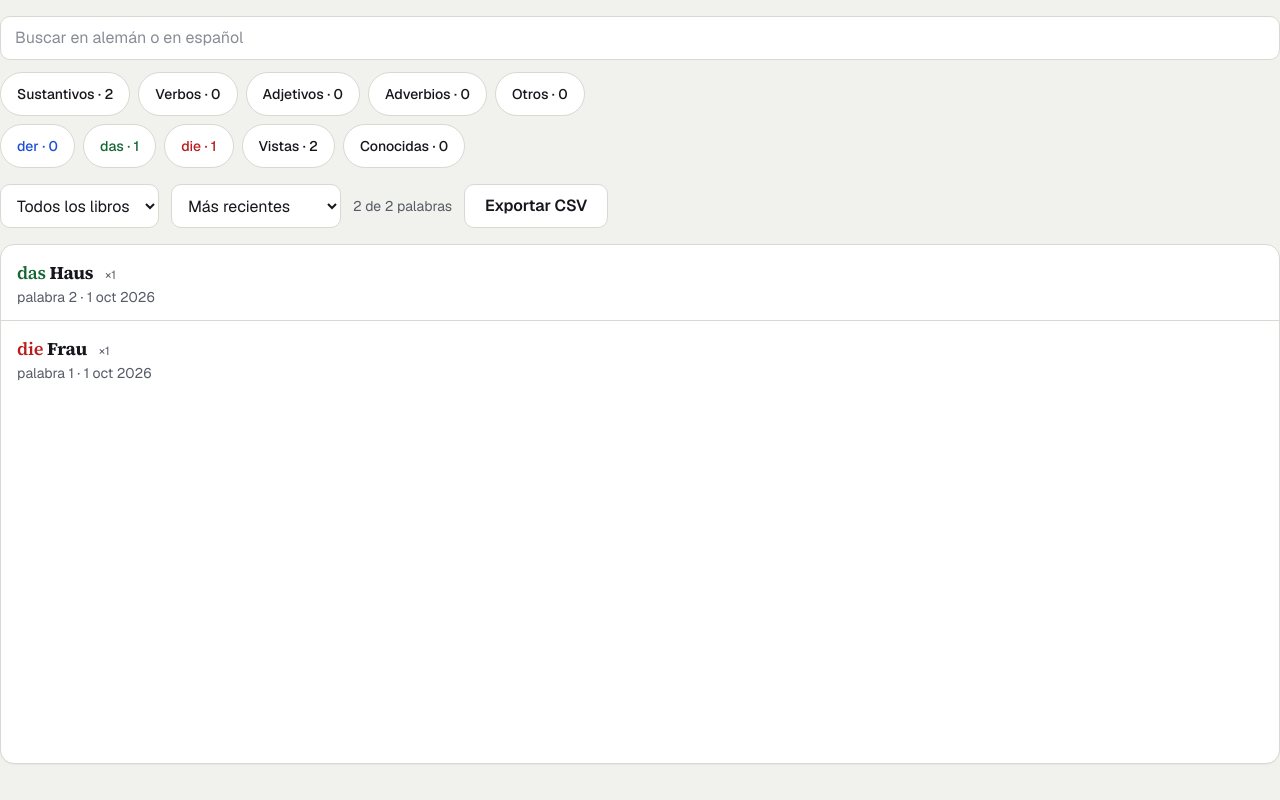
Test: DictionaryView (RF-30, RF-31, RF-29) › eliminar pide confirmación y quita la palabra
The image size is (1280, 800).
Click the button "die Frau ×1 palabra 1 · 1 oct 2026": (67, 348) [1, 321, 1279, 397]
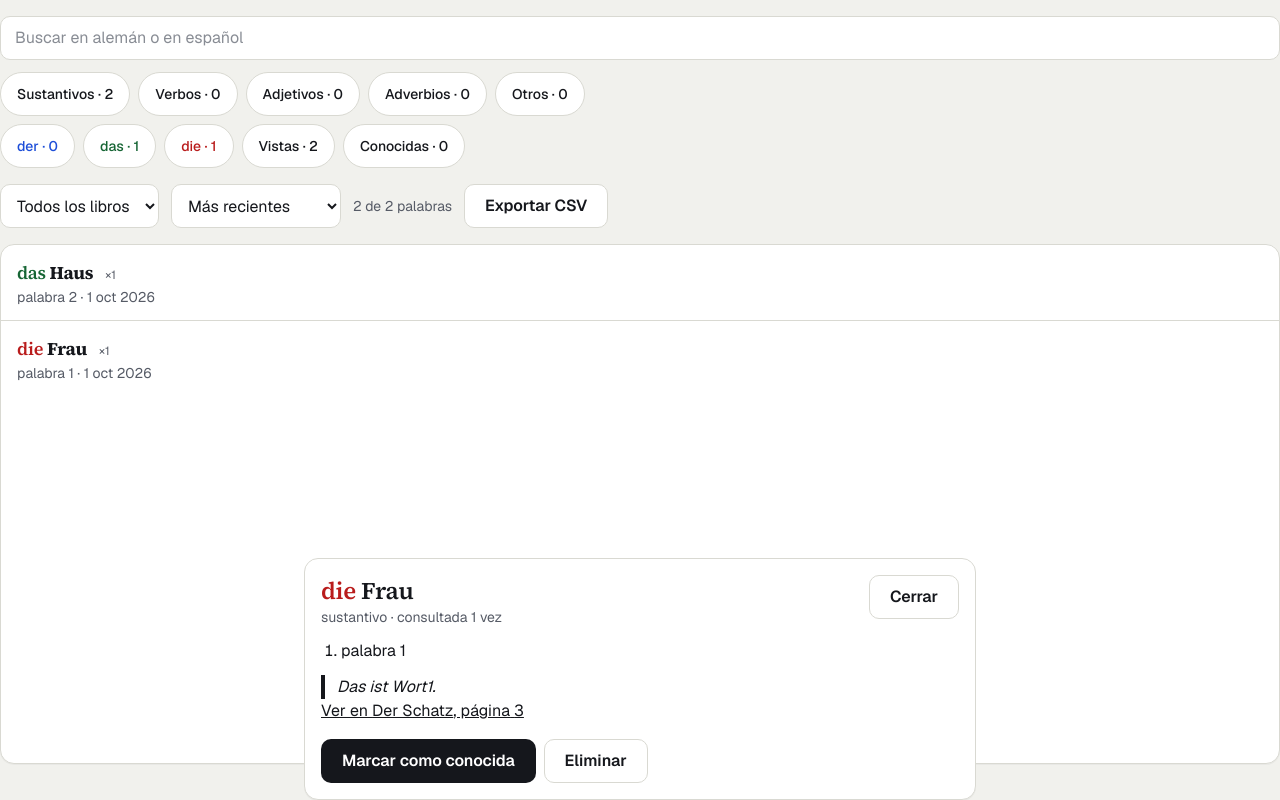
Click the button "Eliminar": (596, 761) [544, 739, 648, 783]
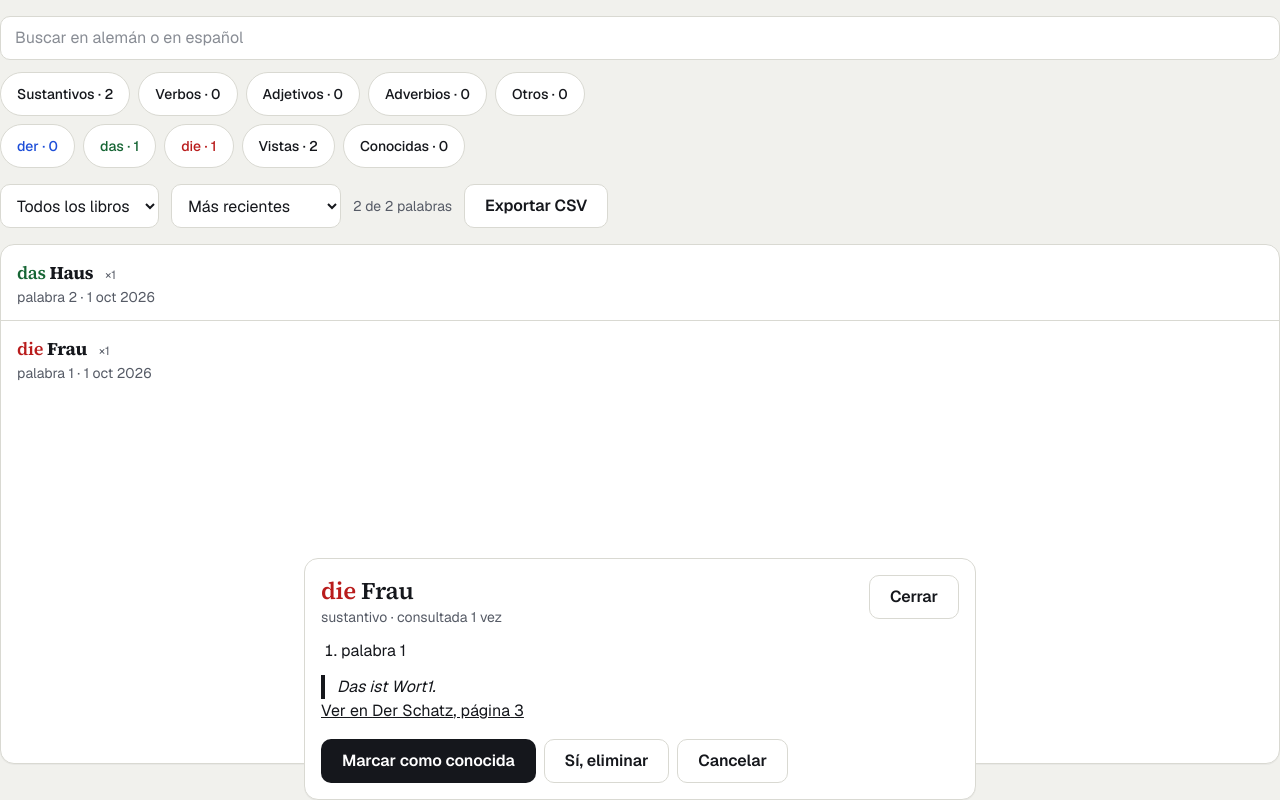
Click the button "Sí, eliminar": (606, 761) [544, 739, 669, 783]
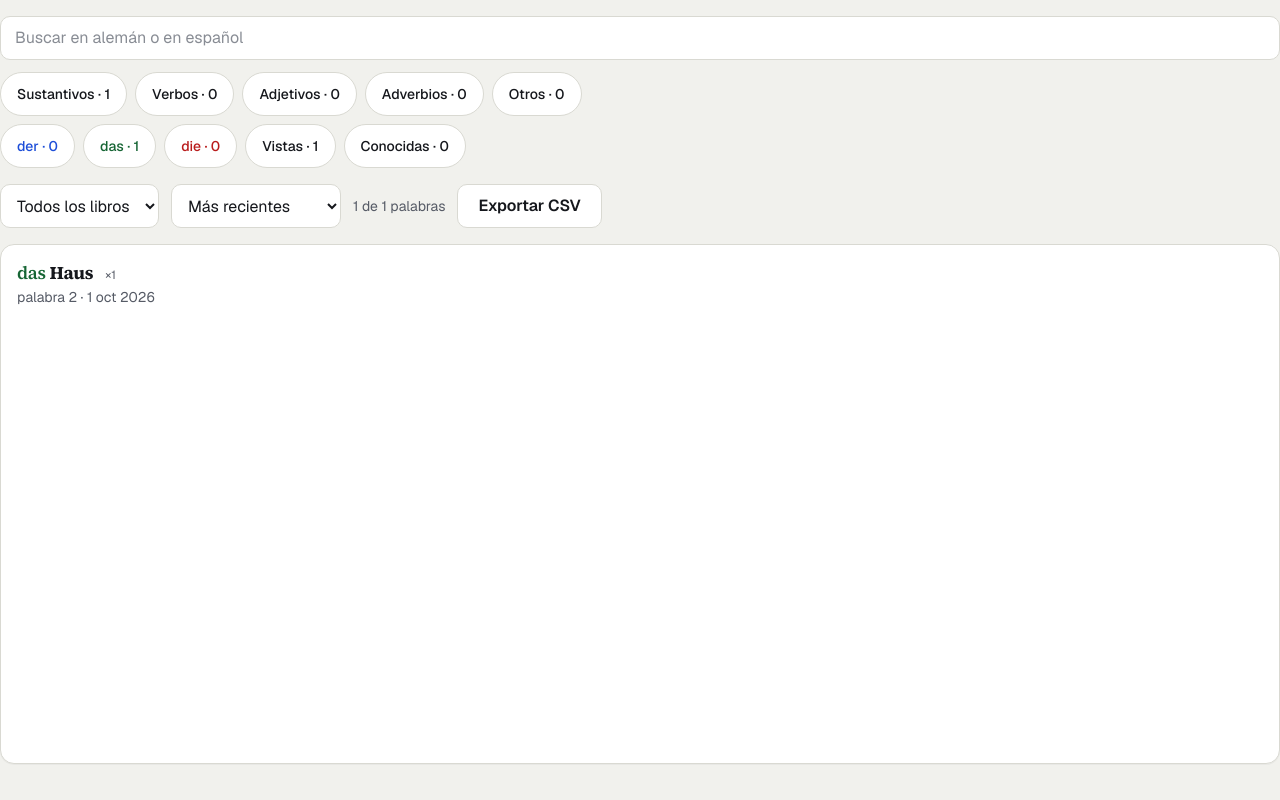
Expected: the dialog is gone
Expected: the text "1 de 1 palabras" is shown, [353, 196, 446, 216]
